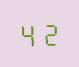four: (19, 20, 38, 47)
two: (39, 20, 58, 46)
